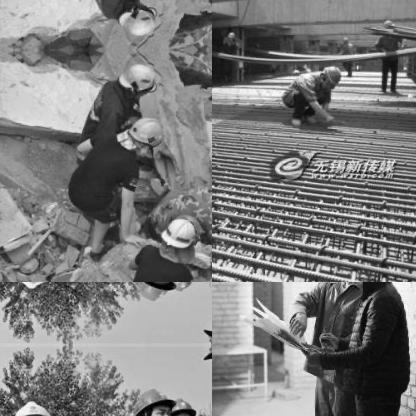Helmet: (118, 61, 160, 100), (128, 383, 177, 415), (118, 0, 160, 36), (126, 112, 162, 148), (161, 215, 195, 251), (127, 282, 178, 305), (3, 397, 53, 415), (162, 392, 198, 415), (320, 63, 344, 89), (162, 282, 200, 295), (3, 282, 54, 290)
